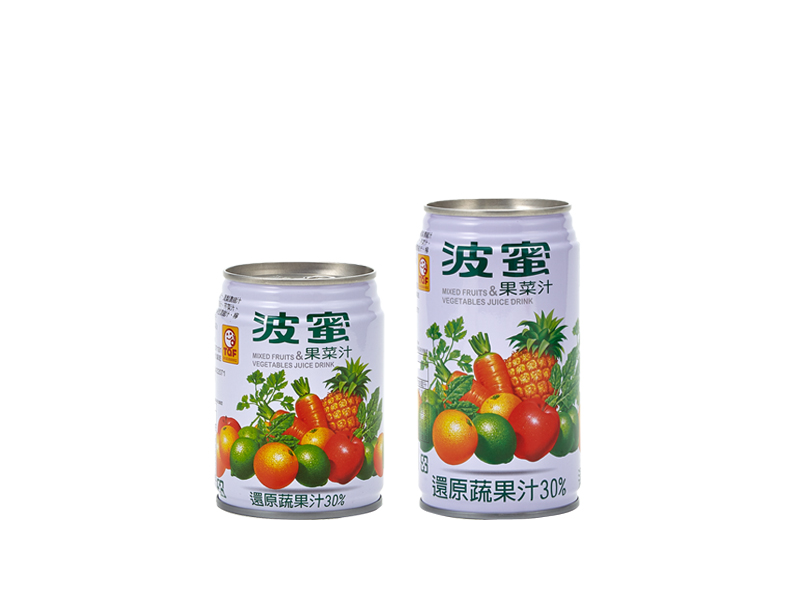vegetables juice: (403, 231, 591, 519), (203, 242, 391, 530)
